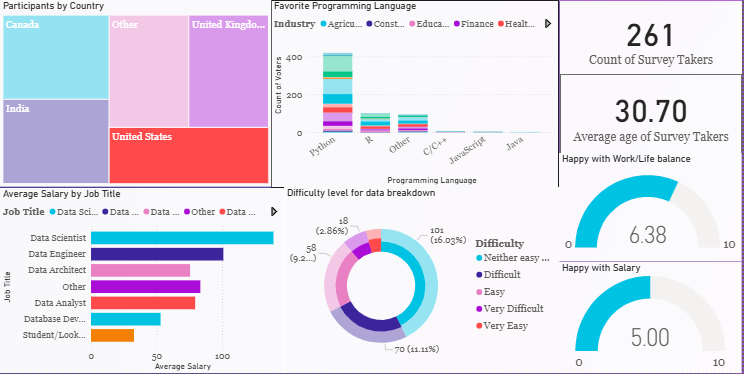

What the dashboard file says about the page in this screenshot:
{"tool":"powerbi","page":{"name":"Page 1","canvas":[1280,720],"ordinal":0},"visuals":[{"type":"textbox","box":[0,0,1280,77.3],"z":0},{"type":"card","fields":{"Values":["CountNonNull(Data Professional Survey.Unique ID)"]},"box":[965.9,77.3,314.1,126],"z":1000},{"type":"card","fields":{"Values":["Avg(Data Professional Survey.Q10 - Current Age)"]},"box":[965.9,203.3,314.1,137.7],"z":2000},{"type":"barChart","title":"Average Salary by Job Title","fields":{"Category":["Data Professional Survey.Q1 - Which Title Best Fits your Current Role?.1"],"Y":["Avg(Data Professional Survey.Average Salary)"],"Series":["Data Professional Survey.Q1 - Which Title Best Fits your Current Role?.1"]},"box":[0,400,491.9,320],"z":3000},{"type":"columnChart","title":"Favorite Programming Language","fields":{"Category":["Data Professional Survey.Q5 - Favorite Programming Language.1"],"Y":["CountNonNull(Data Professional Survey.Unique ID)"],"Series":["Data Professional Survey.Q4 - What Industry do you work in?.1"]},"box":[468.1,76.6,497,323.4],"z":4000},{"type":"treemap","title":"Participants by Country","fields":{"Group":["Data Professional Survey.Q11 - Which Country do you live in?.1"],"Values":["Count(Data Professional Survey.Q11 - Which Country do you live in?.1)"]},"box":[0,76.6,468.1,321.7],"z":5000},{"type":"gauge","title":"Happy with Work/Life balance","fields":{"Y":["Avg(Data Professional Survey.Q6 - How Happy are you in your Current Position with the following? (Work/Life Balance))"],"MinValue":["Min(Data Professional Survey.Q6 - How Happy are you in your Current Position with the following? (Work/Life Balance))"],"MaxValue":["Max(Data Professional Survey.Q6 - How Happy are you in your Current Position with the following? (Work/Life Balance))"]},"box":[965.1,340.4,314.9,187.2],"z":6000},{"type":"gauge","title":"Happy with Salary","fields":{"Y":["Avg(Data Professional Survey.Q6 - How Happy are you in your Current Position with the following? (Salary))"],"MinValue":["Min(Data Professional Survey.Q6 - How Happy are you in your Current Position with the following? (Salary))1"],"MaxValue":["Max(Data Professional Survey.Q6 - How Happy are you in your Current Position with the following? (Salary))2"]},"box":[965.1,527.7,314.9,192.3],"z":7000},{"type":"donutChart","title":"Difficulty level for data breakdown","fields":{"Category":["Data Professional Survey.Q7 - How difficult was it for you to break into Data?"],"Y":["CountNonNull(Data Professional Survey.Q7 - How difficult was it for you to break into Data?)"],"Series":["Data Professional Survey.Q7 - How difficult was it for you to break into Data?"]},"box":[490.2,398.3,474.9,321.7],"z":8000}]}

Visuals, with their boxes on the page's 1280x720 design canvas (x1, y1, x2, y2). These are canvas units, not pixel positions in the 744x374 screenshot, which may show the page scaled, cropped or inside an application window:
textbox: bbox=(0, 0, 1280, 77)
card - CountNonNull(Data Professional Survey.Unique ID): bbox=(966, 77, 1280, 203)
card - Avg(Data Professional Survey.Q10 - Current Age): bbox=(966, 203, 1280, 341)
"Average Salary by Job Title" barChart: bbox=(0, 400, 492, 720)
"Favorite Programming Language" columnChart: bbox=(468, 77, 965, 400)
"Participants by Country" treemap: bbox=(0, 77, 468, 398)
"Happy with Work/Life balance" gauge: bbox=(965, 340, 1280, 528)
"Happy with Salary" gauge: bbox=(965, 528, 1280, 720)
"Difficulty level for data breakdown" donutChart: bbox=(490, 398, 965, 720)
